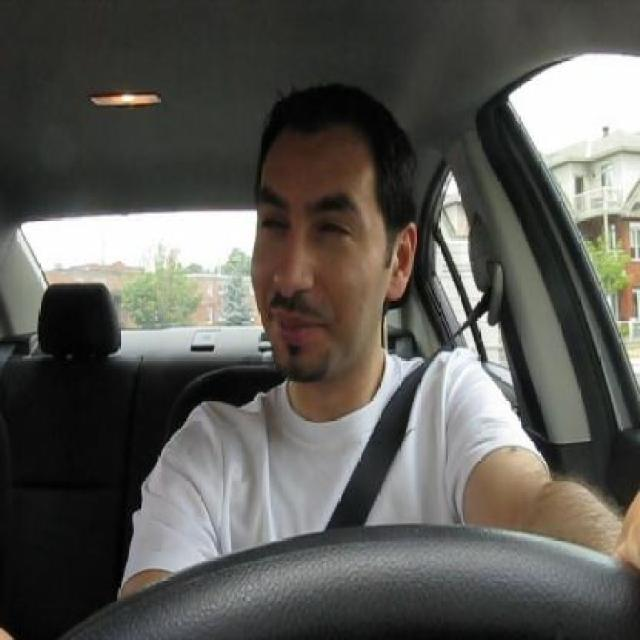drowsy: (315, 206, 350, 249), (258, 208, 288, 244)
